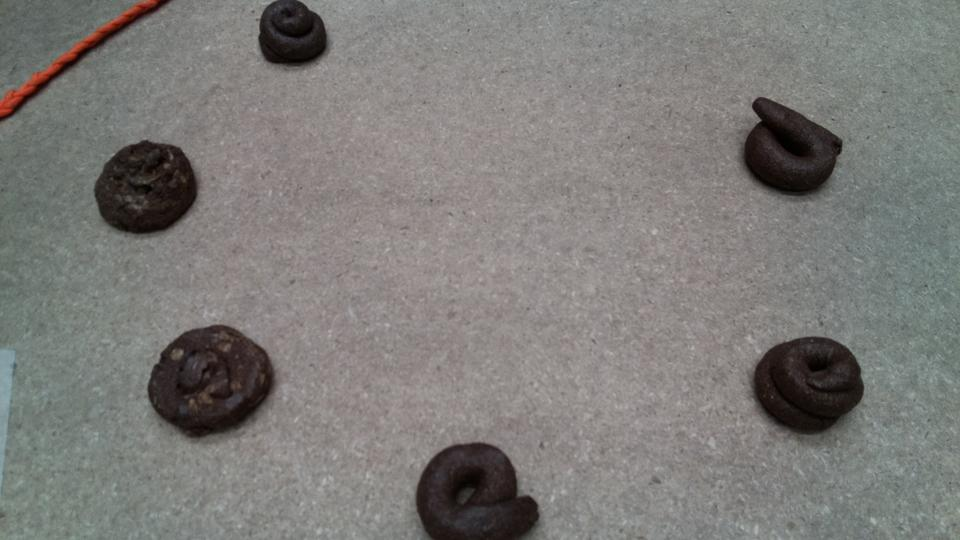poop: (145, 321, 281, 437), (414, 437, 540, 540), (752, 332, 871, 437), (91, 132, 201, 237), (739, 94, 848, 197), (256, 1, 321, 58)
rope: (90, 1, 177, 47), (1, 65, 73, 119), (58, 19, 126, 75)
